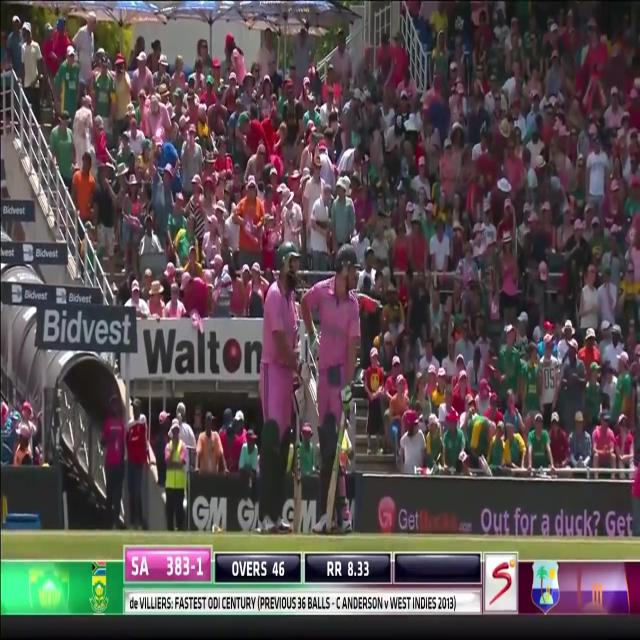Ball: (307, 242, 362, 538)
